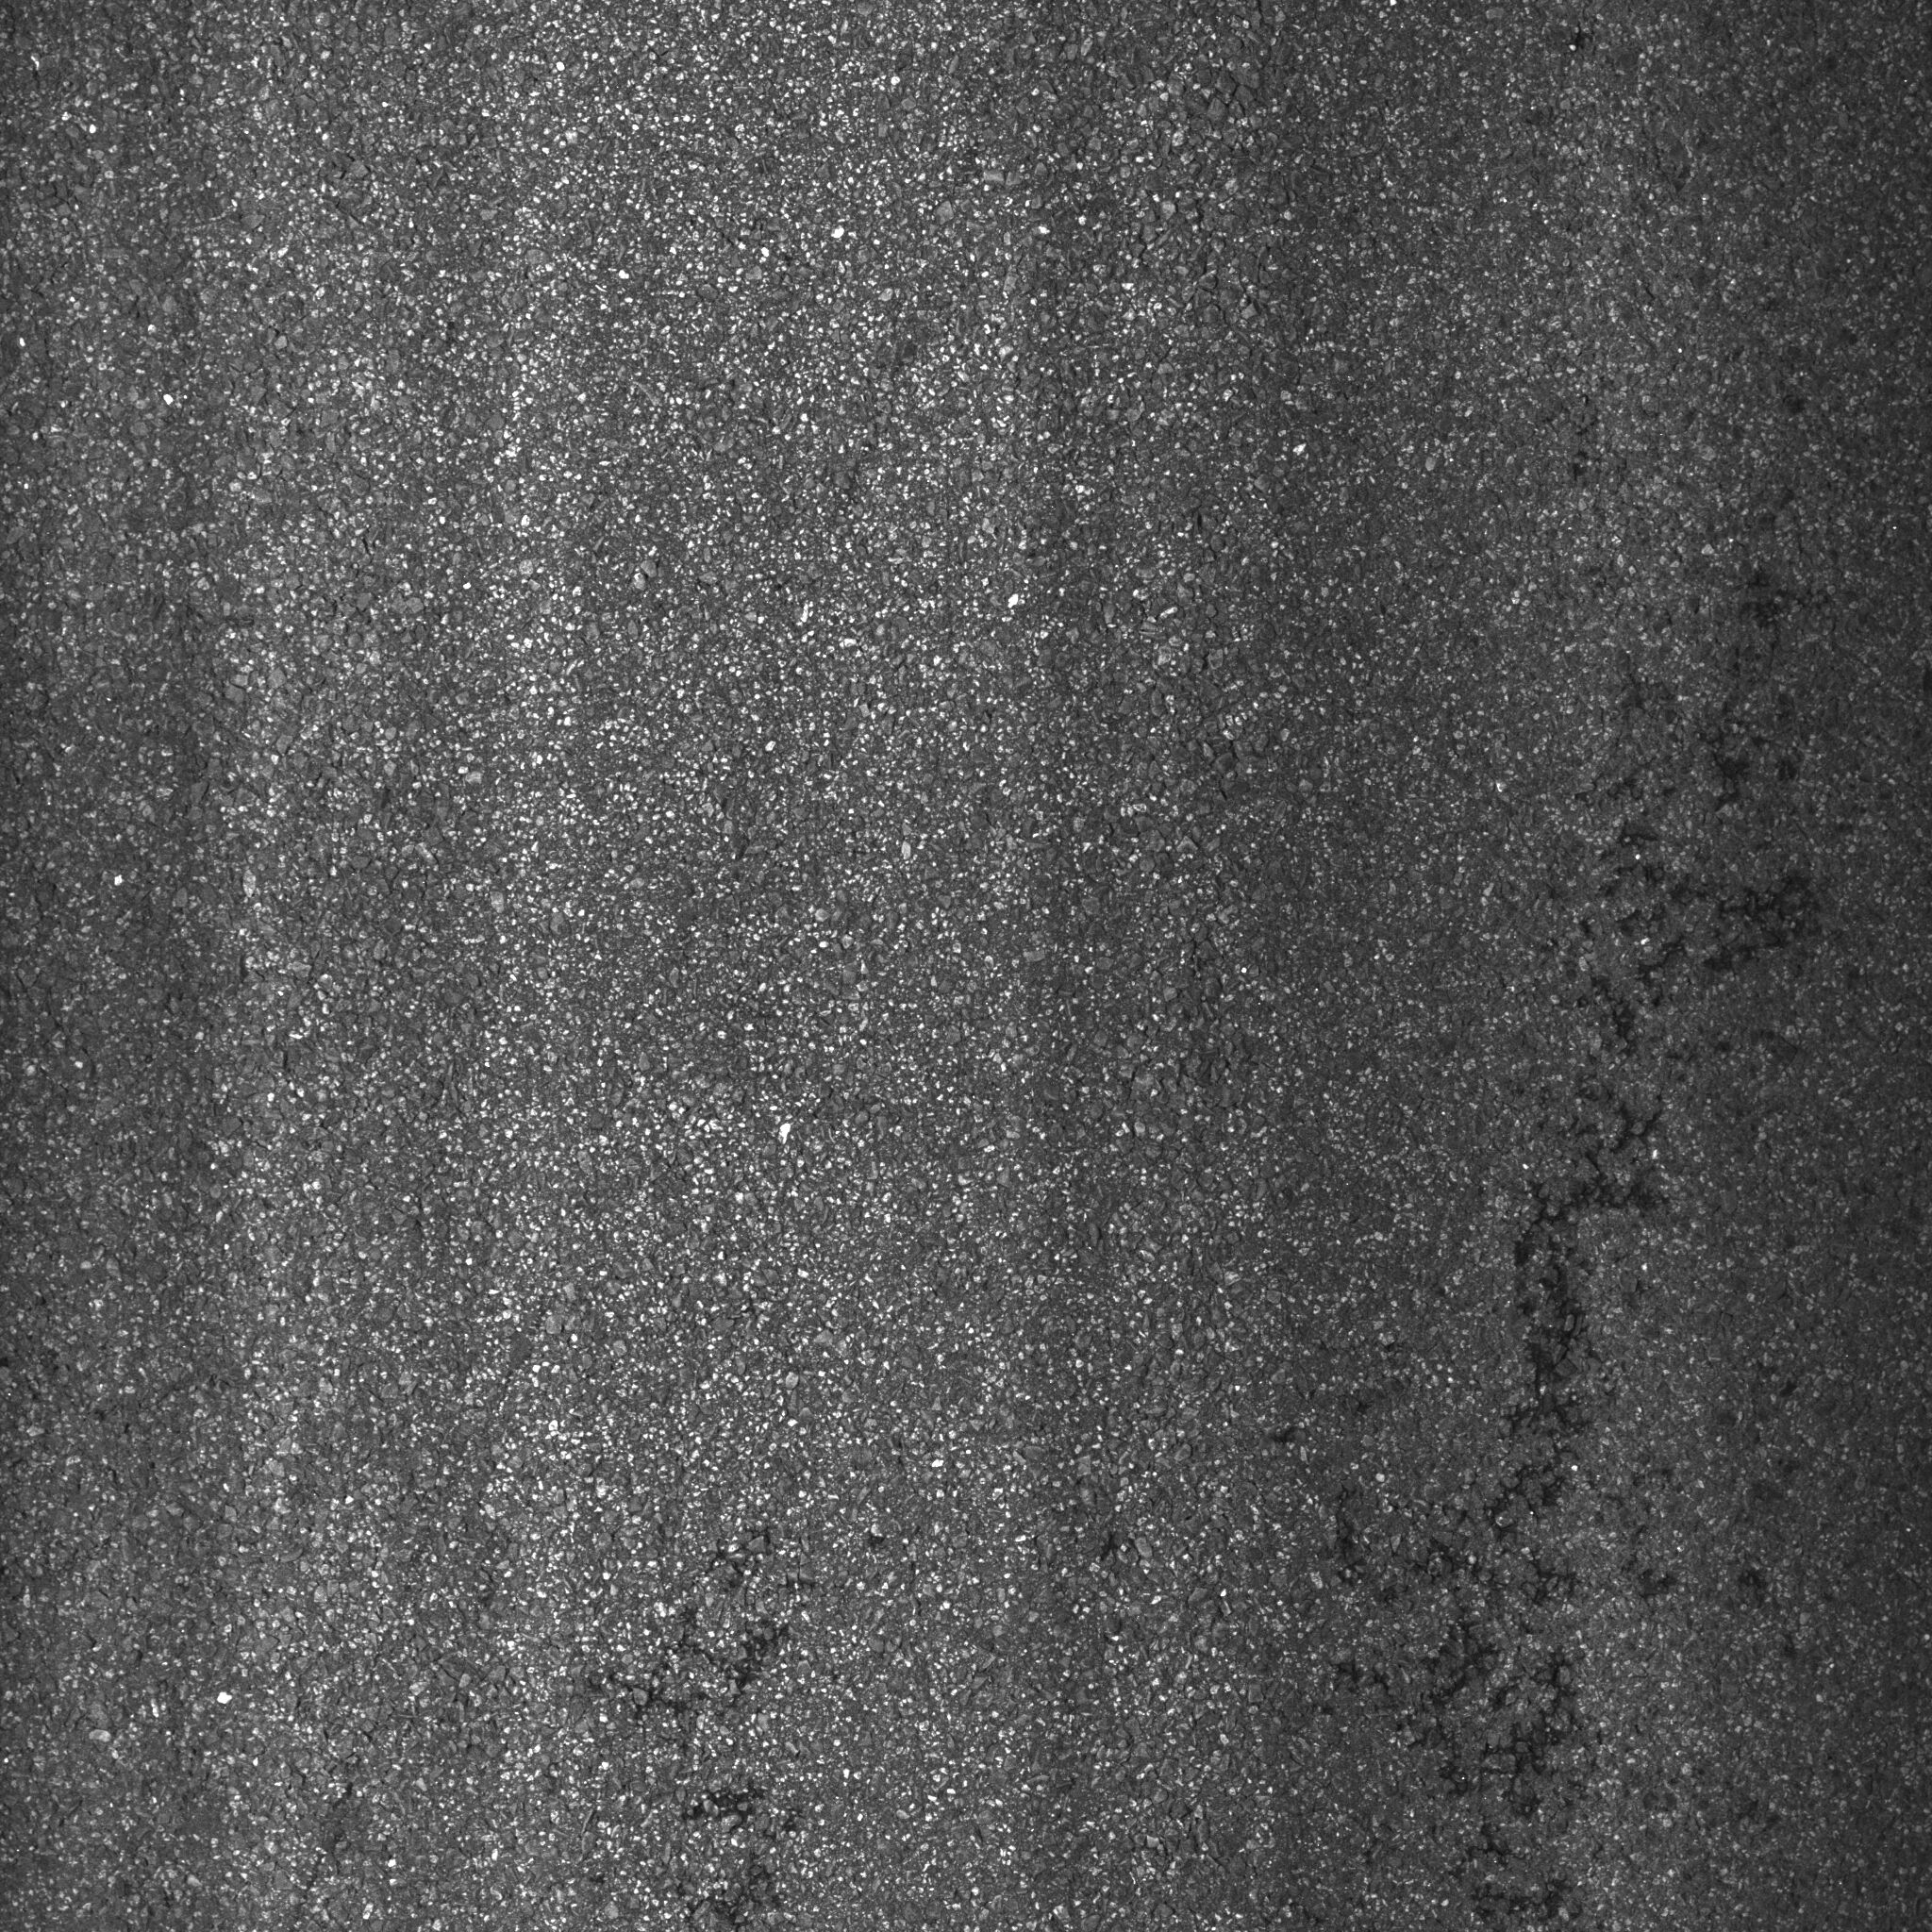alligator: (1295, 504, 1813, 1932)
